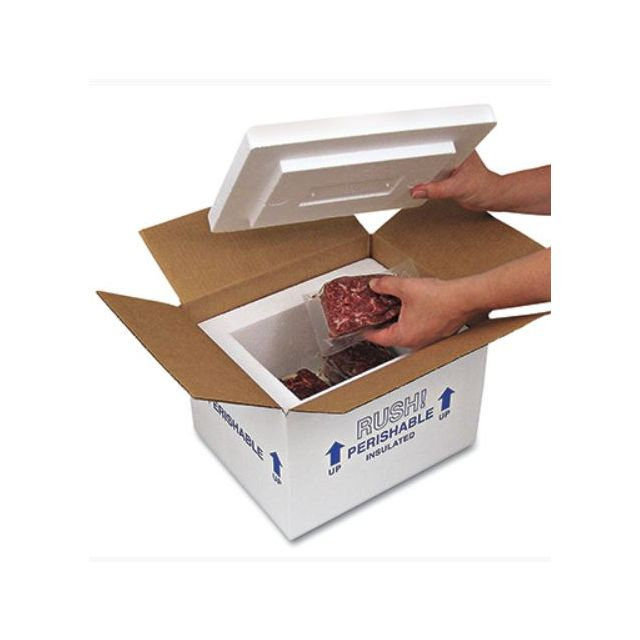Parcel: (201, 259, 473, 411)
